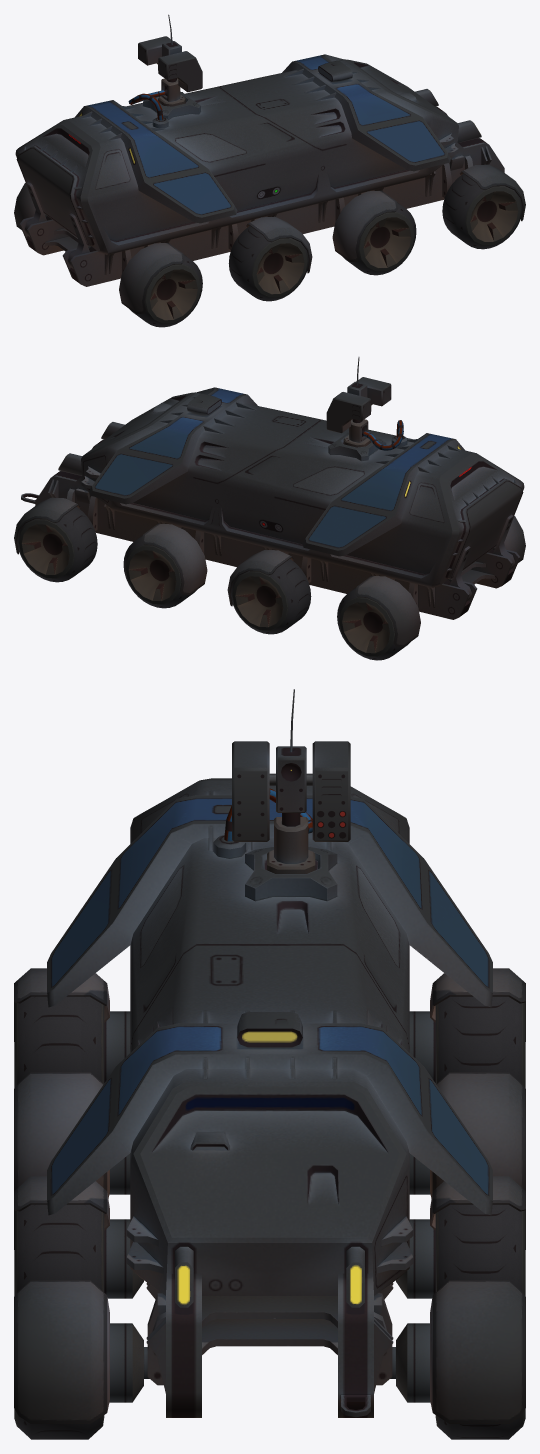
File: Vehicle_2.fbx
The picture shows the model from 3 angles, top to bottom: view 1: azimuth 30°, elevation 25°; view 2: azimuth 150°, elevation 25°; view 3: azimuth 270°, elevation 25°; orthographic projection. The views are drawn at different scales.
Visible parts, largest first — view 1: Vehicle_2, Wheel_F.R, Wheel_M2.R, Wheel_R.R, Wheel_M1.R, Wheel_Cover_R.R, Wheel_Cover_M1.R, Rockets.R, Wheel_Cover_F.R, Wheel_Cover_M2.R, Rockets_Base, Rockets.L (+1 smaller); view 2: Vehicle_2, Wheel_F.L, Wheel_M2.L, Wheel_R.L, Wheel_M1.L, Wheel_Cover_R.L, Wheel_Cover_M1.L, Rockets.L, Wheel_Cover_F.L, Wheel_Cover_M2.L, Rockets_Base, Rockets.R (+1 smaller); view 3: Vehicle_2, Wheel_Cover_F.R, Wheel_Cover_F.L, Wheel_M1.R, Wheel_M1.L, Wheel_R.R, Wheel_R.L, Wheel_Cover_M2.R, Wheel_Cover_M2.L, Rockets.L, Rockets.R, Suspension_F.R (+13 smaller).
Part boxes in pixels (bbox=[...]): Vehicle_2: bbox=[15, 54, 504, 286]; Wheel_F.R: bbox=[442, 173, 522, 249]; Wheel_M2.R: bbox=[228, 226, 308, 301]; Wheel_R.R: bbox=[129, 254, 202, 327]; Wheel_M1.R: bbox=[343, 202, 416, 275]; Wheel_Cover_R.R: bbox=[119, 243, 184, 314]; Wheel_Cover_M1.R: bbox=[332, 190, 398, 261]; Rockets.R: bbox=[158, 51, 202, 92]; Wheel_Cover_F.R: bbox=[460, 164, 525, 221]; Wheel_Cover_M2.R: bbox=[246, 216, 312, 273]; Rockets_Base: bbox=[128, 78, 185, 120]; Rockets.L: bbox=[138, 36, 172, 70]; Vehicle_2: bbox=[21, 387, 524, 619]; Wheel_F.L: bbox=[17, 507, 97, 582]; Wheel_M2.L: bbox=[231, 559, 311, 634]; Wheel_R.L: bbox=[337, 587, 410, 660]; Wheel_M1.L: bbox=[123, 535, 196, 608]; Wheel_Cover_R.L: bbox=[355, 576, 420, 647]; Wheel_Cover_M1.L: bbox=[141, 523, 207, 595]; Rockets.L: bbox=[326, 392, 370, 433]; Wheel_Cover_F.L: bbox=[14, 497, 79, 554]; Wheel_Cover_M2.L: bbox=[227, 550, 293, 606]; Rockets_Base: bbox=[343, 419, 403, 450]; Rockets.R: bbox=[356, 377, 391, 411]; Vehicle_2: bbox=[47, 778, 492, 1417]; Wheel_Cover_F.R: bbox=[14, 1280, 109, 1423]; Wheel_Cover_F.L: bbox=[430, 1280, 525, 1423]; Wheel_M1.R: bbox=[14, 1204, 104, 1295]; Wheel_M1.L: bbox=[435, 1204, 525, 1295]; Wheel_R.R: bbox=[14, 996, 104, 1087]; Wheel_R.L: bbox=[435, 996, 525, 1087]; Wheel_Cover_M2.R: bbox=[14, 1072, 109, 1198]; Wheel_Cover_M2.L: bbox=[430, 1072, 525, 1198]; Rockets.L: bbox=[312, 741, 350, 841]; Rockets.R: bbox=[232, 741, 269, 841]; Suspension_F.R: bbox=[109, 1323, 149, 1402].
Size of the model in its own units: 5.09 by 2.66 by 2.5.
